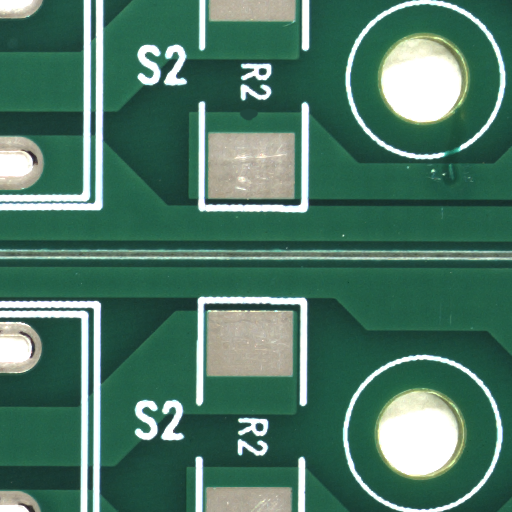Mouse_bite: (248, 114, 267, 125)
